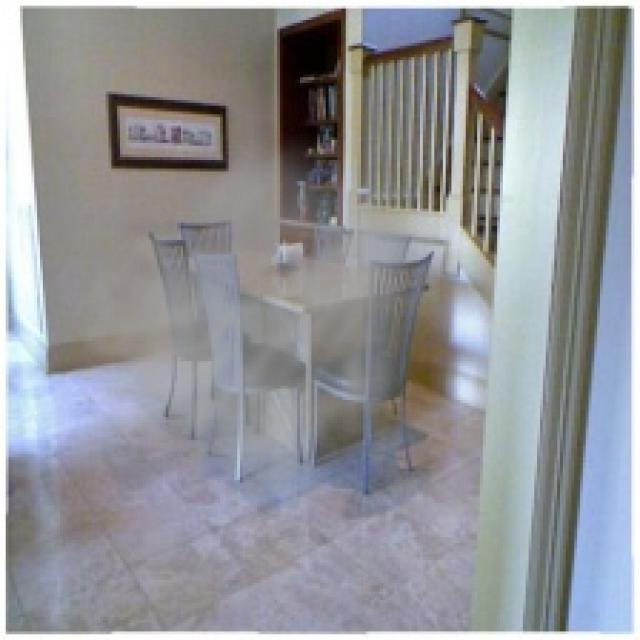Smoke: (40, 122, 440, 528)
